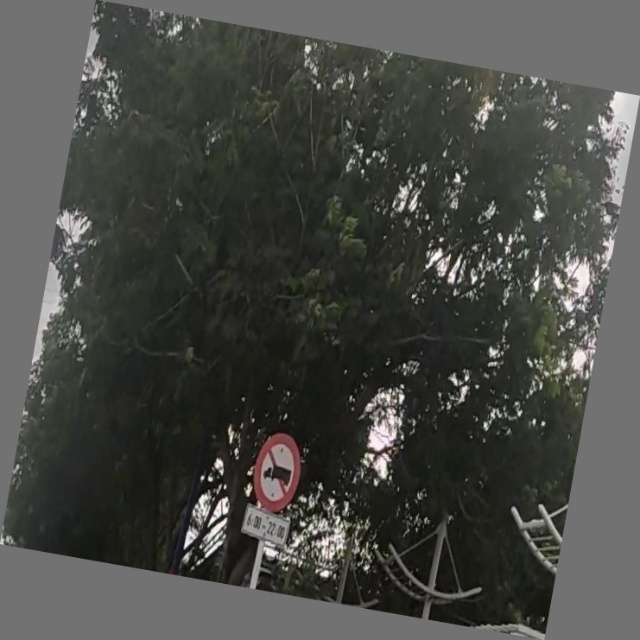B.8a: (239, 431, 304, 546)
